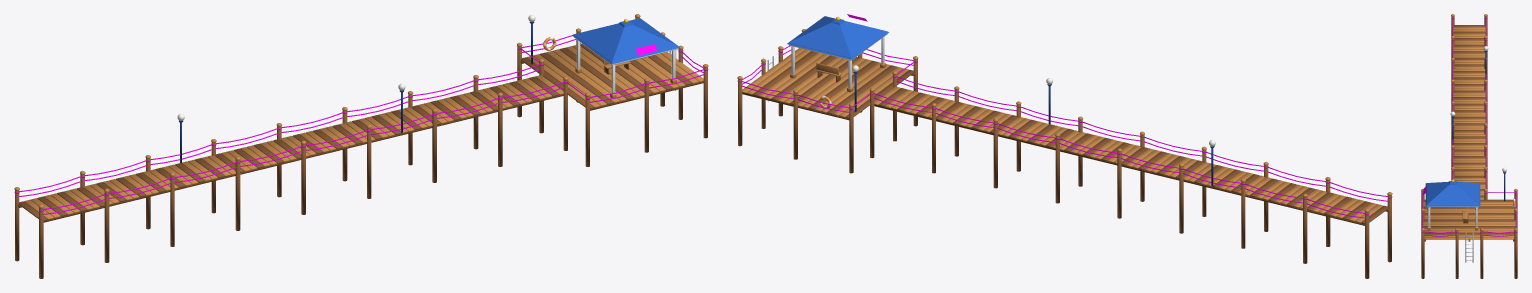
File: pier.glb
3 renders of one model, left to right at view 1: azimuth 30°, elevation 25°; view 2: azimuth 150°, elevation 25°; view 3: azimuth 270°, elevation 25°, orthographic. The views are drawn at different scales.
Parts seen in each view (by area): view 1: pier; view 2: pier; view 3: pier.
Boxes of the visible parts, x1,y1,x2,y2 form: pier: [14, 14, 708, 278]; pier: [737, 14, 1392, 278]; pier: [1421, 14, 1517, 278].
Size of the model in its own units: 49.38 by 8.48 by 9.38.
